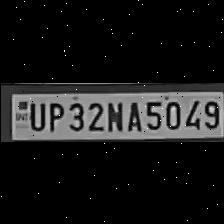0: (162, 97, 180, 129)
2: (84, 98, 104, 132)
3: (64, 98, 84, 132)
4: (182, 96, 200, 130)
5: (141, 96, 161, 130)
9: (200, 96, 220, 128)
A: (123, 97, 141, 131)
N: (104, 97, 124, 131)
P: (44, 98, 64, 132)
U: (25, 98, 43, 130)
